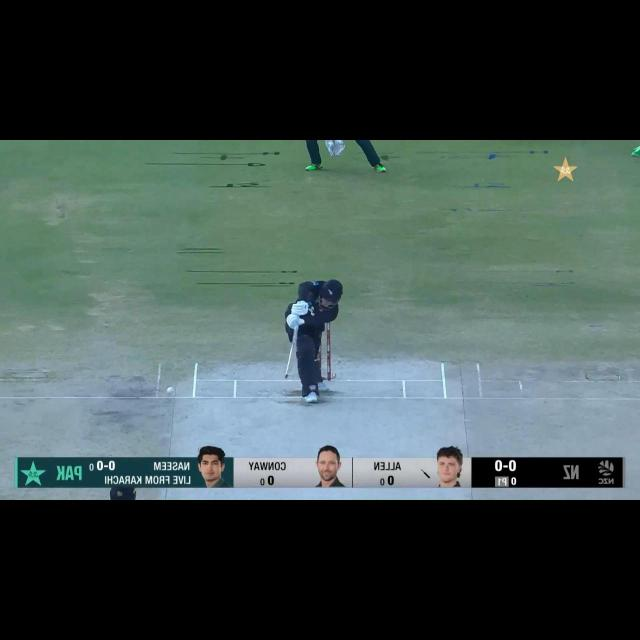bat: (284, 332, 297, 380)
toe: (282, 365, 292, 380)
